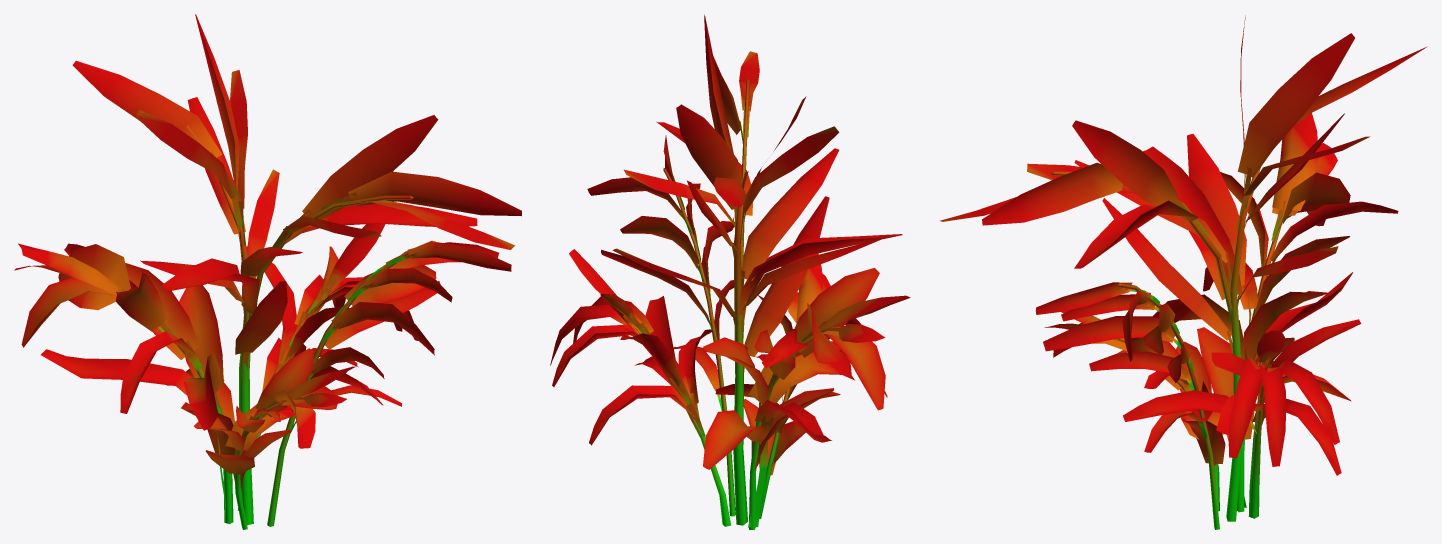
The model's file is Var3_LOD1.fbx.
3 views of the same model, side by side, from view 1: azimuth 30°, elevation 25°; view 2: azimuth 150°, elevation 25°; view 3: azimuth 270°, elevation 25° (orthographic). The views are drawn at different scales.
Visible parts, largest first — view 1: _bdd7_Var3_LOD1; view 2: _bdd7_Var3_LOD1; view 3: _bdd7_Var3_LOD1.
Part boxes in pixels (box(x1,y1,x2,y2)): _bdd7_Var3_LOD1: box(14, 14, 521, 529); _bdd7_Var3_LOD1: box(550, 14, 910, 529); _bdd7_Var3_LOD1: box(940, 15, 1427, 529).
Bounding box in the file's own units: 167 × 185 × 167.
